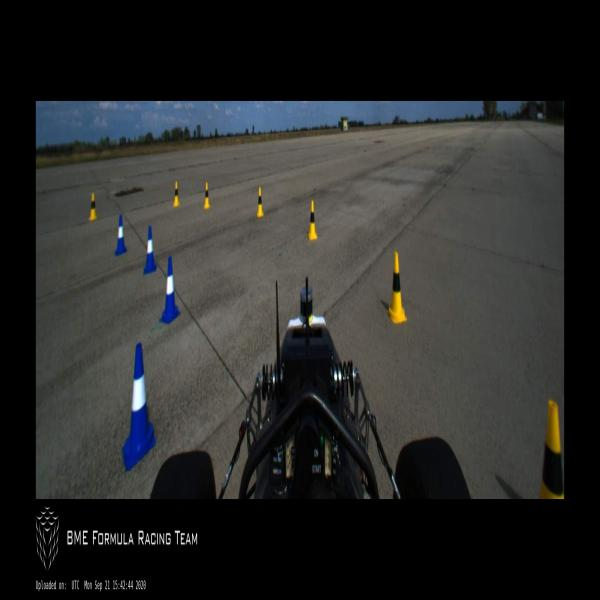blue_cone: (122, 343, 156, 473), (159, 256, 181, 325), (142, 224, 157, 276), (114, 215, 128, 257)
yellow_cone: (539, 400, 564, 499), (386, 252, 407, 323), (308, 200, 316, 240), (89, 192, 97, 222), (256, 187, 264, 217), (173, 182, 180, 206), (204, 183, 210, 209)
